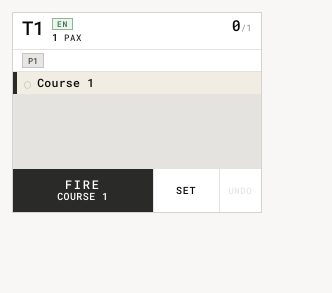
Test: KitchenTicket — pace in the header badge, buttons only in quick access › no pace set → no badge; the toggles live in the quick-access drawer only
Expected: the text "Fast" is not shown
Expected: the text "Slow" is not shown
// Tap the header → the quick-access drawer offers the pace toggles.
Step 1. Click the button with aria-label "tap for quick access" → coordinates (137, 31), box [13, 13, 261, 49]
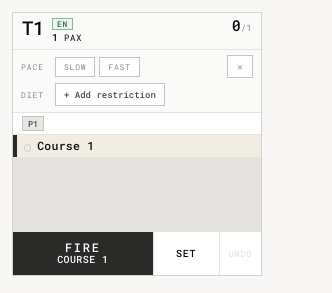
Result: the button "Fast" is shown at [99, 56, 140, 76]
Result: the button "Slow" is shown at [55, 56, 95, 76]
Result: the text "PACE" is shown at [21, 62, 44, 72]
